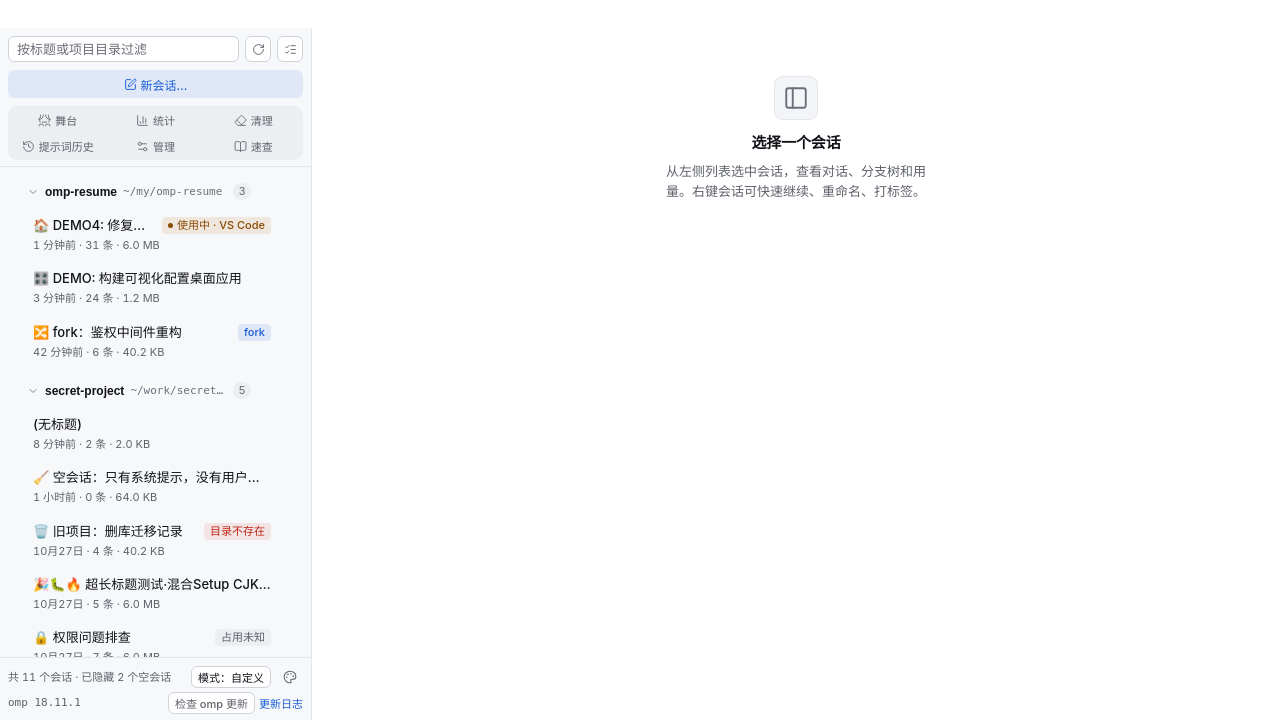
Test: 命令速查 › 点击速查打开对话框，过滤缩小行，关闭按钮关闭
Expected: the text "🎛️ DEMO: 构建可视化配置桌面应用" is shown, [33,269,271,288]
Click the button "速查".
click(253, 146)  # box [205,134,301,158]
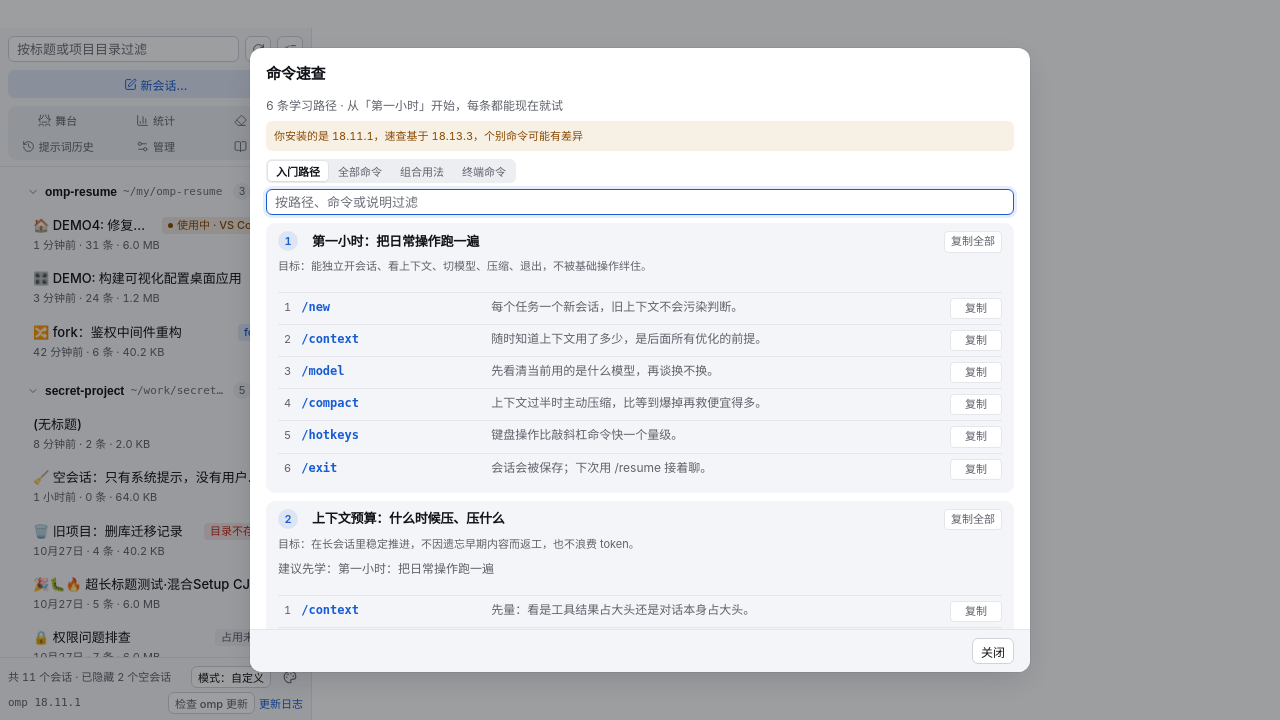
Note: 默认是「入门路径」；命令表在「全部命令」页。
Click the tab "全部命令".
click(360, 171)  # box [330,161,390,181]
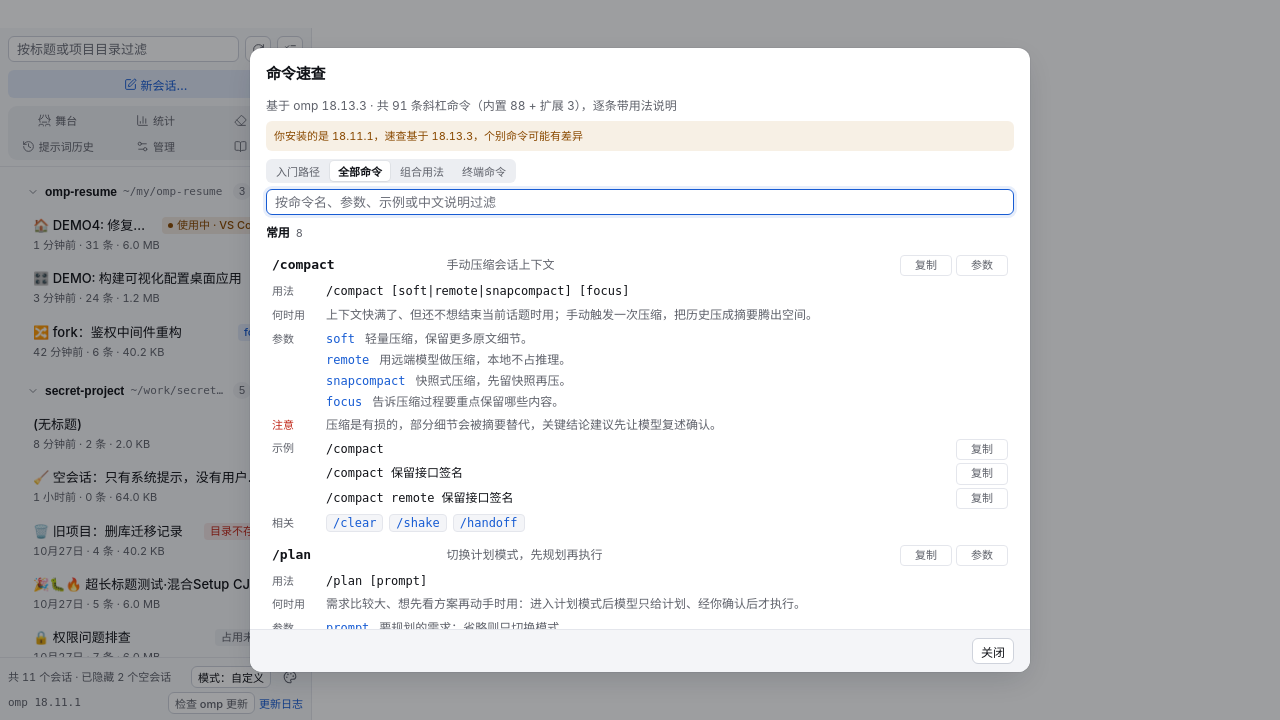
Expected: the text "基于 omp 18.13.3 · 共 91 条斜杠命令（内置 88 + 扩展 3），逐条带用法说明" is shown, [266,98,677,112]
Type "compact" into the search field named "过滤命令".
click(640, 202); type("compact")  # box [266,189,1014,215]
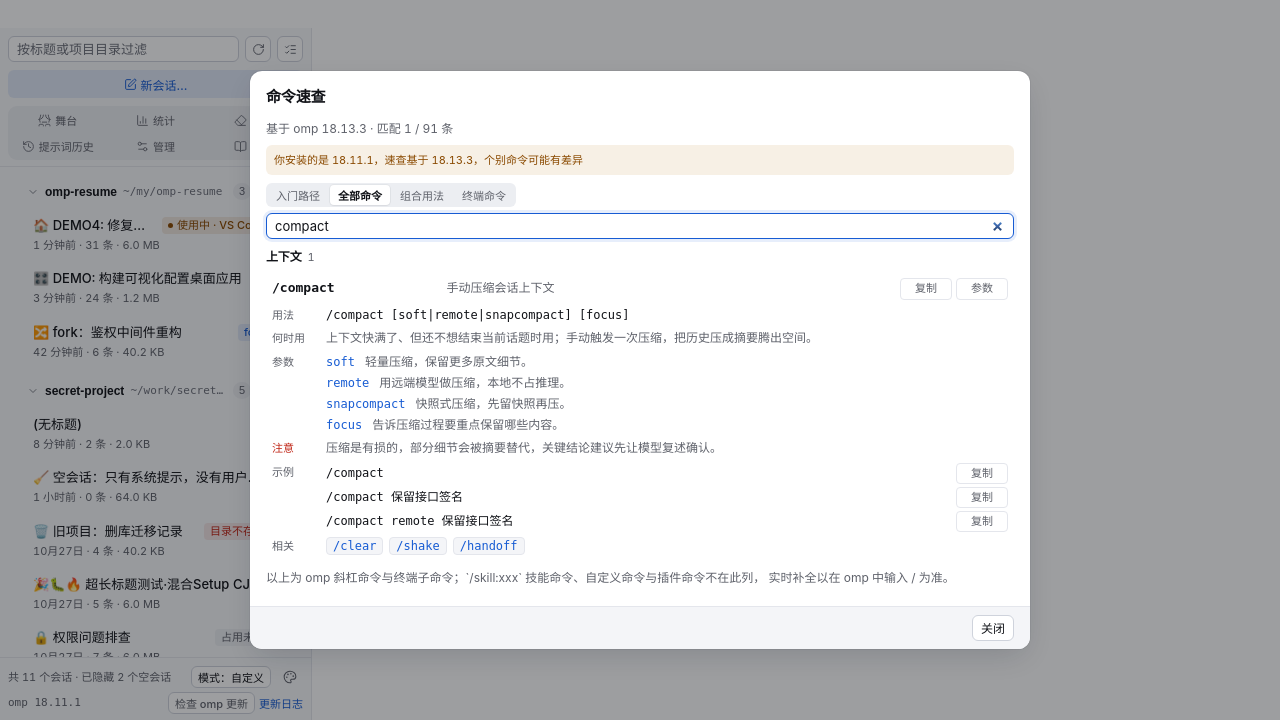
Expected: the button "复制 /shake" is not shown
Expected: the number of buttons named "复制 /compact" is 1, [900,278,952,300]
Click the button "关闭".
click(993, 628)  # box [972,615,1014,641]
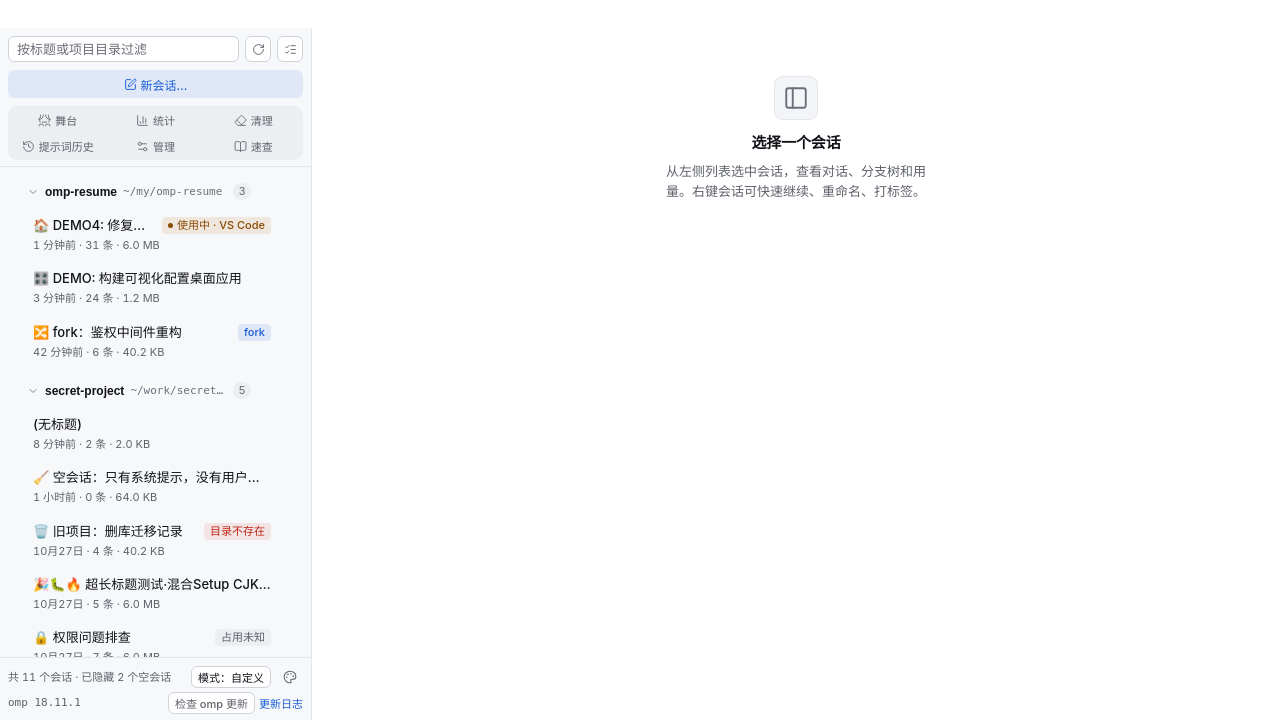
Expected: the heading "命令速查" is gone
